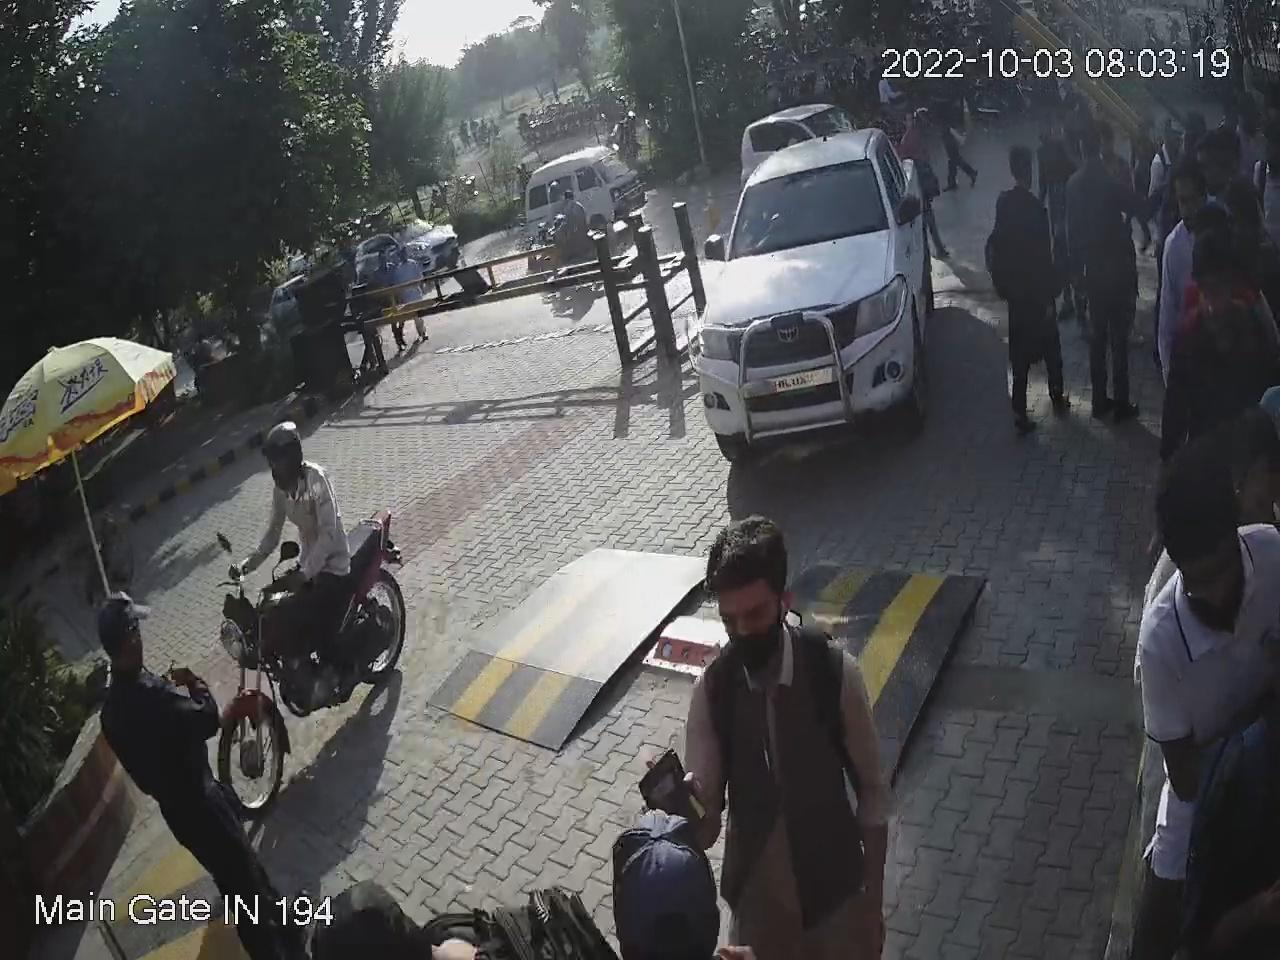windshield: (728, 150, 898, 267)
